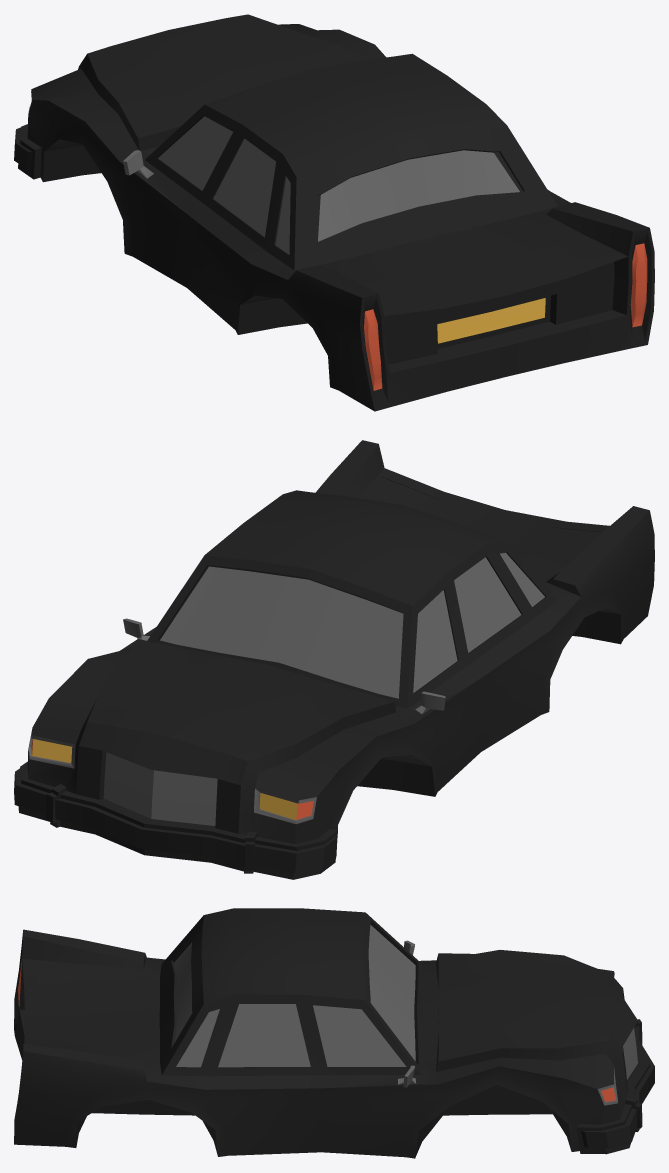
Rendered from american_body.glb.
The picture shows the model from 3 angles, top to bottom: view 1: azimuth 30°, elevation 25°; view 2: azimuth 150°, elevation 25°; view 3: azimuth 270°, elevation 25°; orthographic projection. The views are drawn at different scales.
Visible parts, largest first — view 1: american_body; view 2: american_body; view 3: american_body.
Part boxes in pixels (x1,y1,x2,y2): american_body: [14, 14, 654, 411]; american_body: [14, 440, 654, 879]; american_body: [14, 908, 654, 1158].
Bounding box in the file's own units: 1.61 × 0.8293 × 3.2.
1 material, 1 textured.
